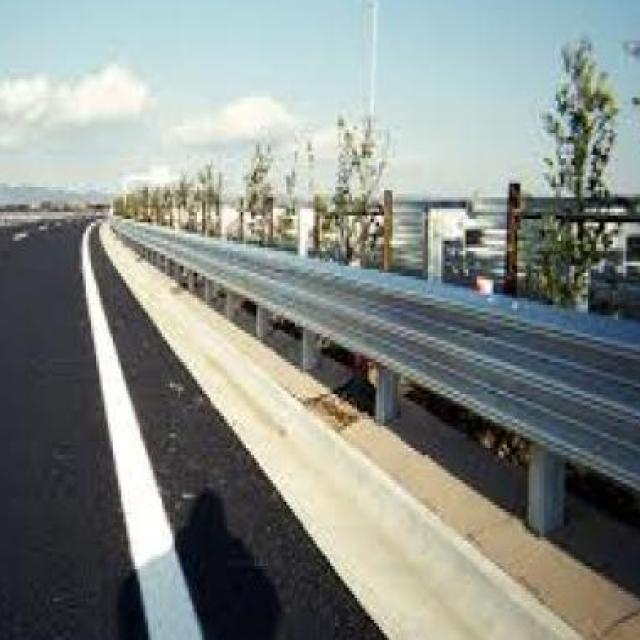Guard rail: (108, 197, 640, 571)
